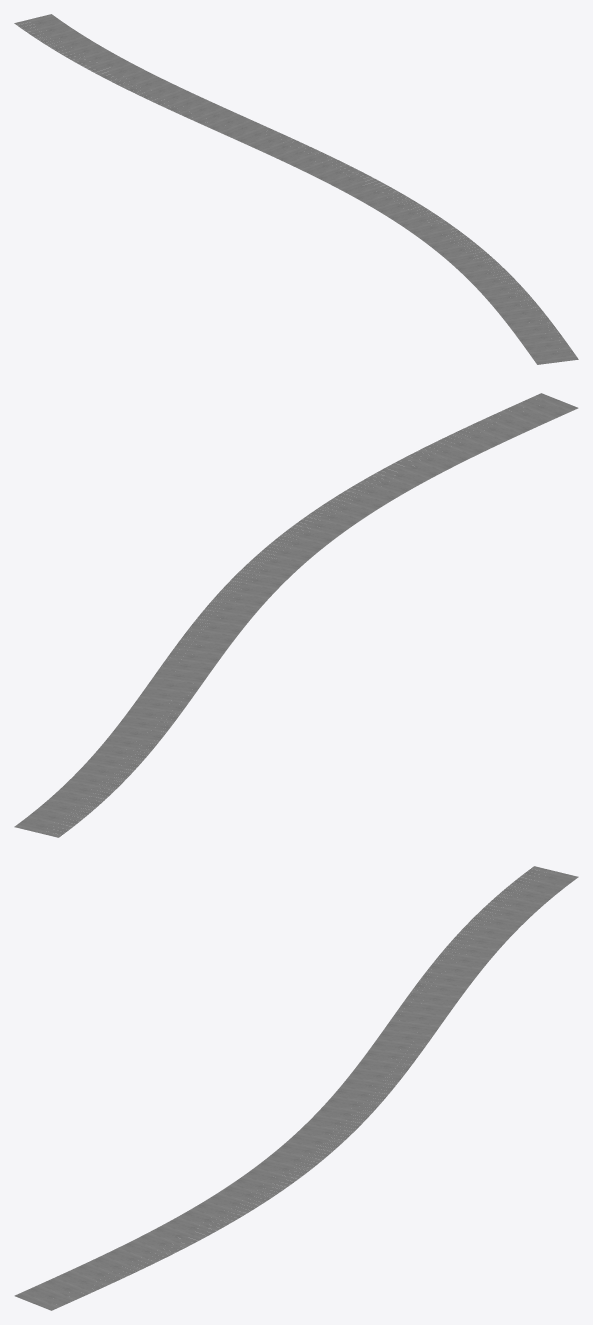
The model's file is farm_road.dae.
3 renders of one model, top to bottom at view 1: azimuth 30°, elevation 25°; view 2: azimuth 150°, elevation 25°; view 3: azimuth 330°, elevation 25°, orthographic. The views are drawn at different scales.
Visible parts, largest first — view 1: farm_road_node; view 2: farm_road_node; view 3: farm_road_node.
Part boxes in pixels (x1,y1,x2,y2): farm_road_node: (14, 14, 578, 364); farm_road_node: (14, 393, 578, 837); farm_road_node: (14, 866, 578, 1310).
Bounding box in the file's own units: 17.4 × 121 × 0.
Materials: 1 (1 with a texture image).
